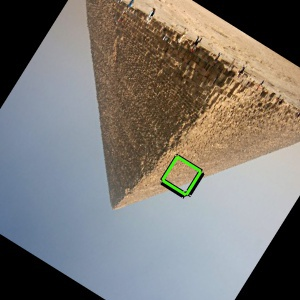square: (159, 153, 204, 198)
